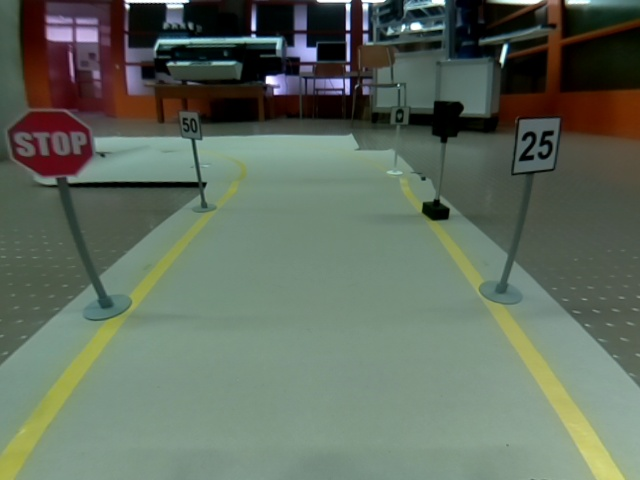battery: (390, 106, 410, 125)
speed25: (511, 115, 561, 175)
speed50: (178, 111, 202, 139)
stop: (4, 108, 95, 178)
trafficLightOff: (432, 100, 464, 138)
